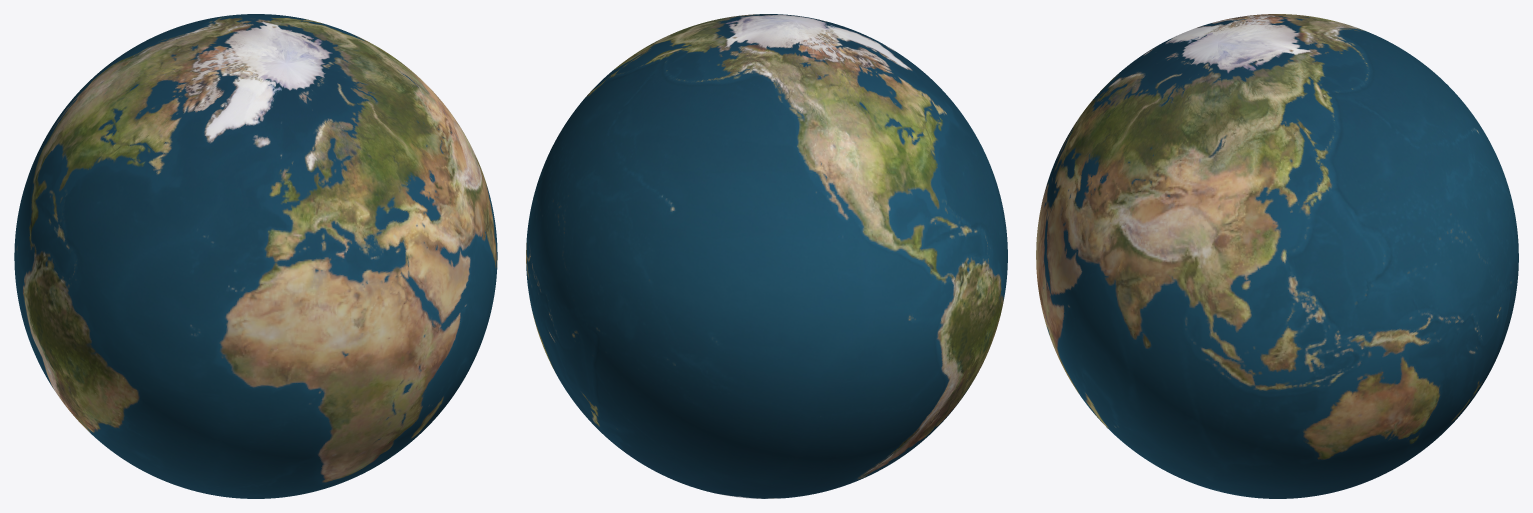
File: globe.glb
The picture shows the model from 3 angles, left to right: view 1: azimuth 30°, elevation 25°; view 2: azimuth 150°, elevation 25°; view 3: azimuth 270°, elevation 25°; orthographic projection.
Parts seen in each view (by area): view 1: Sphere; view 2: Sphere; view 3: Sphere.
Boxes of the visible parts, x1,y1,x2,y2 form: Sphere: [14, 14, 497, 498]; Sphere: [526, 14, 1007, 498]; Sphere: [1036, 14, 1518, 498].
Bounding box in the file's own units: 1.97 × 1.99 × 1.98.
1 material, 1 textured.
